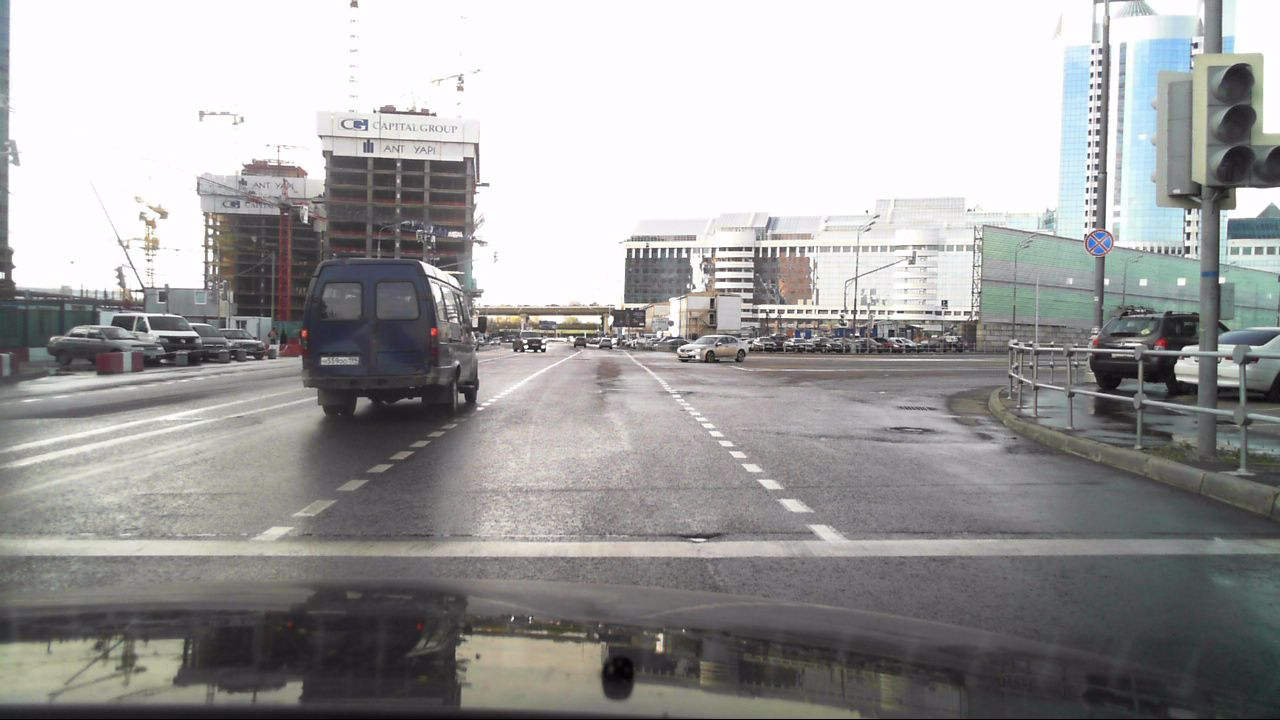No Parking: (1081, 228, 1115, 257)
